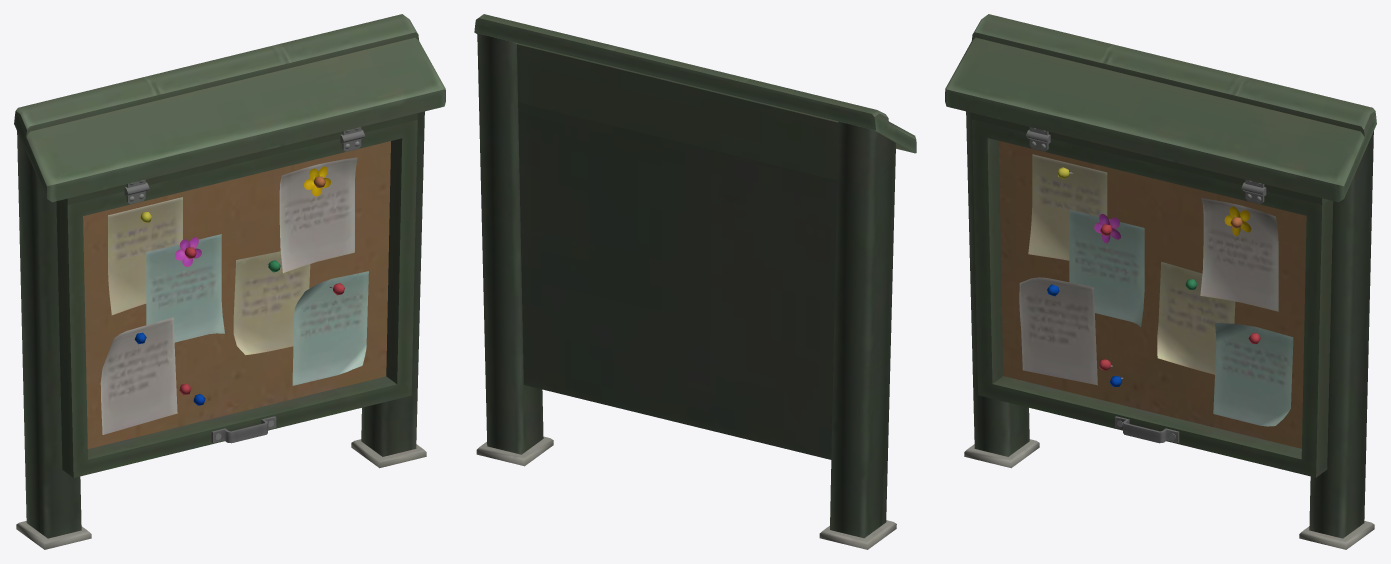
The model's file is bulletin-board.glb.
3 renders of one model, left to right at view 1: azimuth 30°, elevation 25°; view 2: azimuth 150°, elevation 25°; view 3: azimuth 330°, elevation 25°, orthographic. The views are drawn at different scales.
Bounding box in the file's own units: 16.95 × 17.21 × 3.09.
Materials: 1 (1 with a texture image).
